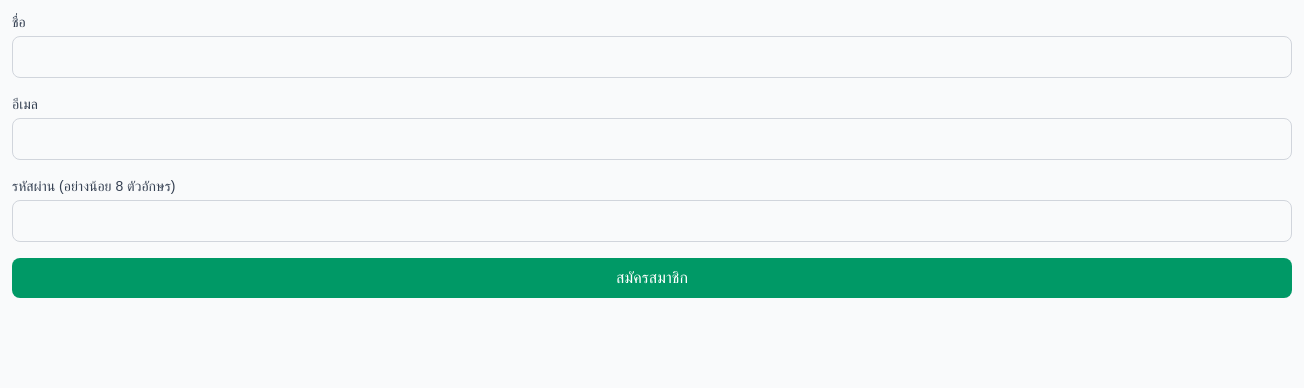
Scenario: <RegisterForm /> › shows Thai validation errors and does not call the API
Type "nope" into the field labelled "อีเมล".
click(652, 139); type("nope")  # box [12,118,1292,160]
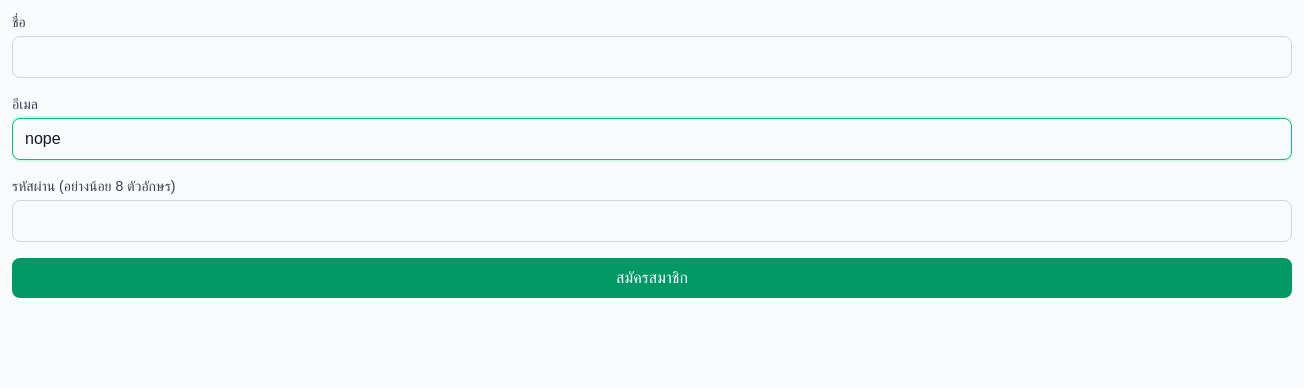
Type "short" into the password field labelled "รหัสผ่าน (อย่างน้อย 8 ตัวอักษร)".
click(652, 221); type("short")  # box [12,200,1292,242]
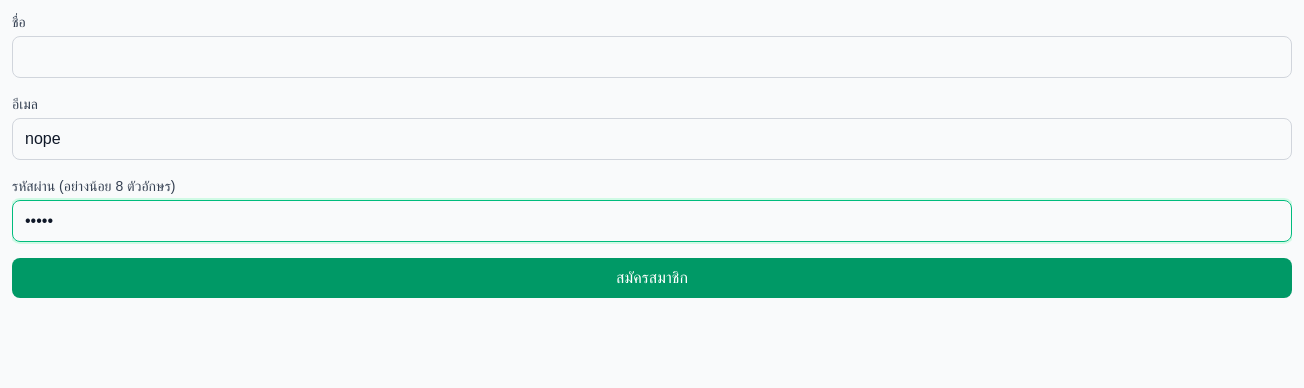
Click the button "สมัครสมาชิก".
click(652, 278)  # box [12,258,1292,298]
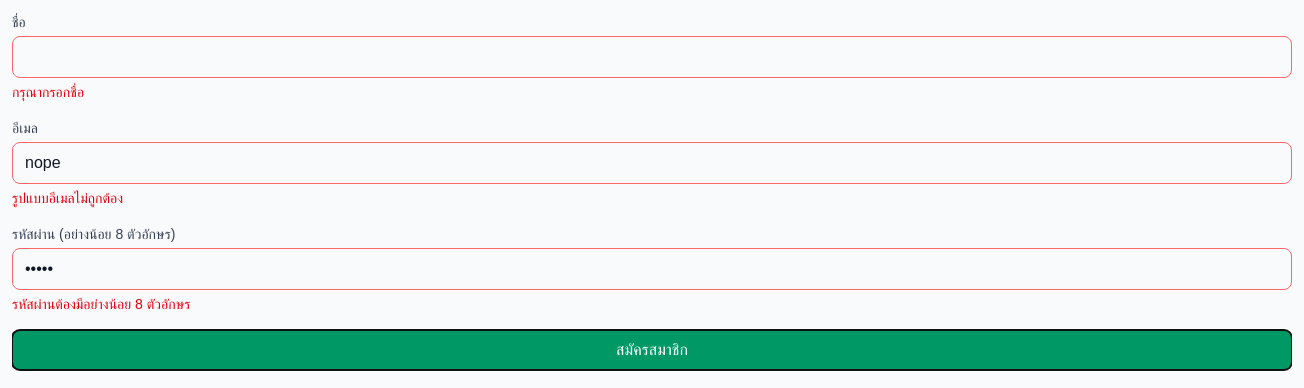
Expected: the text "กรุณากรอกชื่อ" is shown, [12,84,84,100]
Expected: the text "รูปแบบอีเมลไม่ถูกต้อง" is shown, [12,190,123,206]
Expected: the text "รหัสผ่านต้องมีอย่างน้อย 8 ตัวอักษร" is shown, [12,296,190,312]
